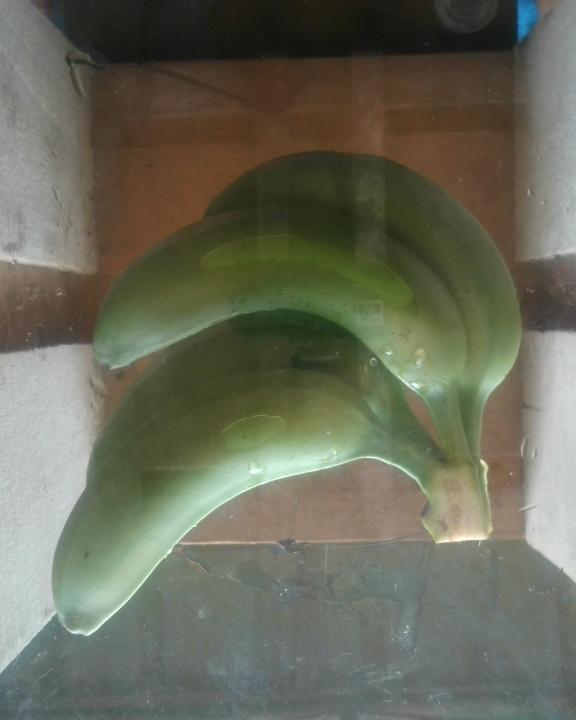SPOT: (48, 140, 528, 647)
